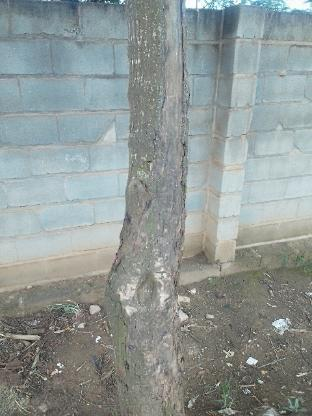tree: (96, 0, 203, 416)
